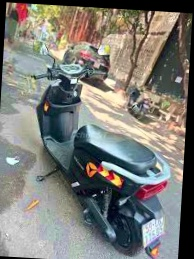Bien-so: (161, 196, 188, 233)
